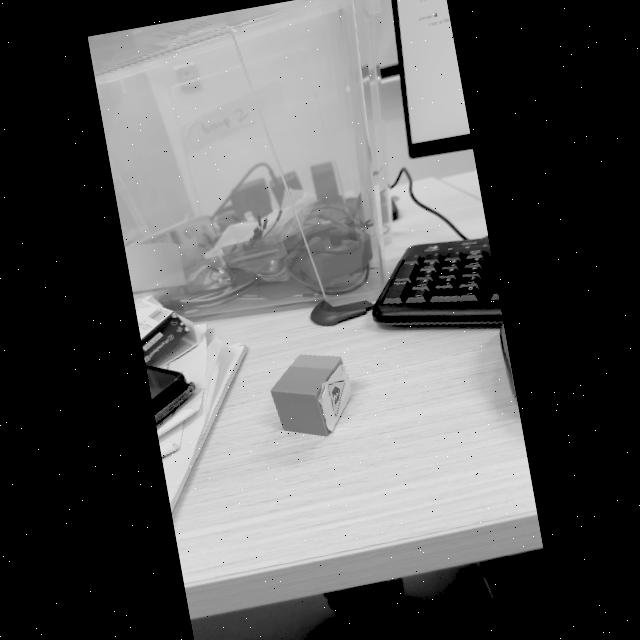Earthquake: (328, 380, 345, 416)
